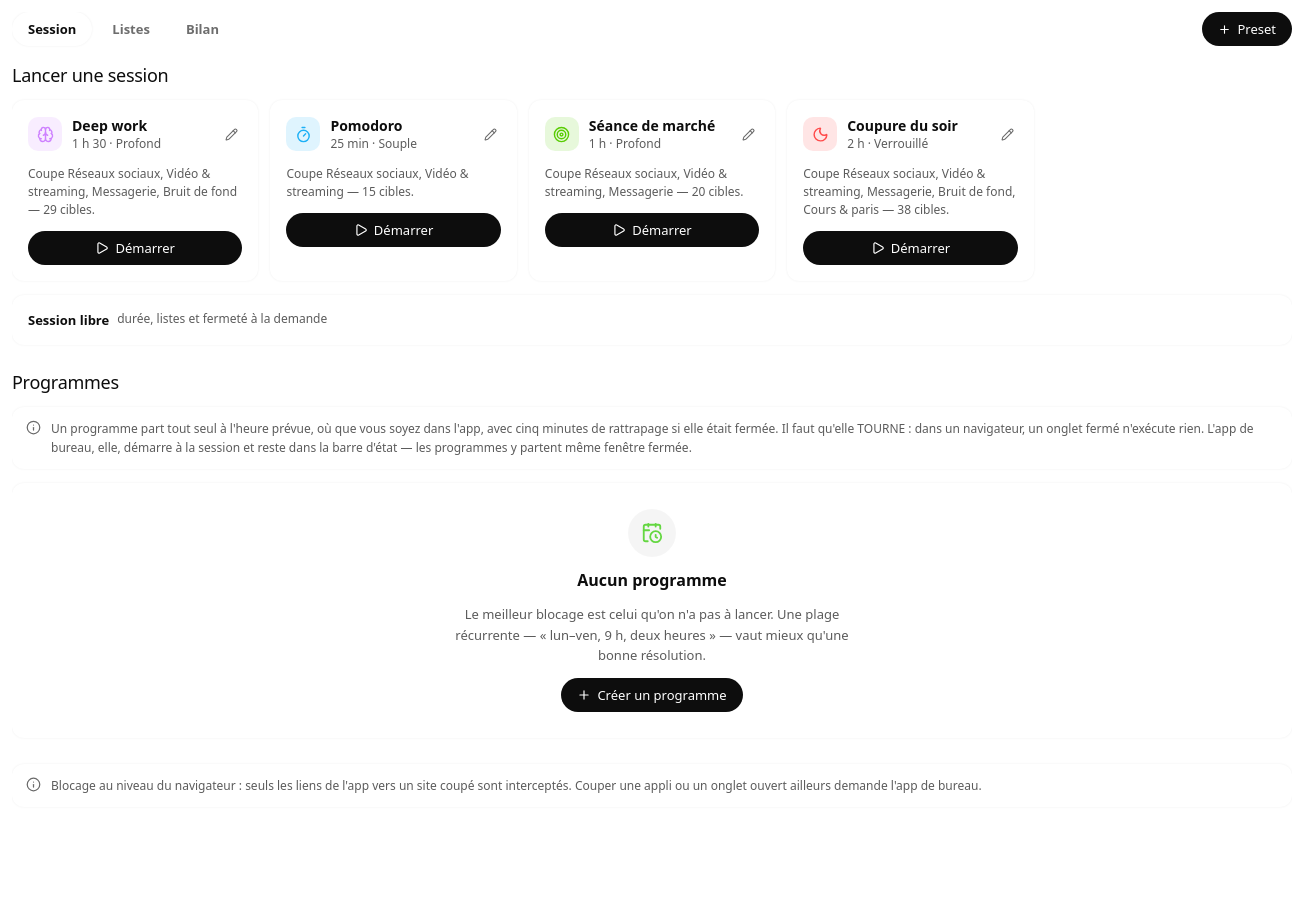
Test case: Page Focus › n'a plus ni onglet Réglages ni écran de sortie d'app
This screenshot has width=1304, height=912.
Click the button "Bilan". click: (202, 29)
box: [170,12,235,46]
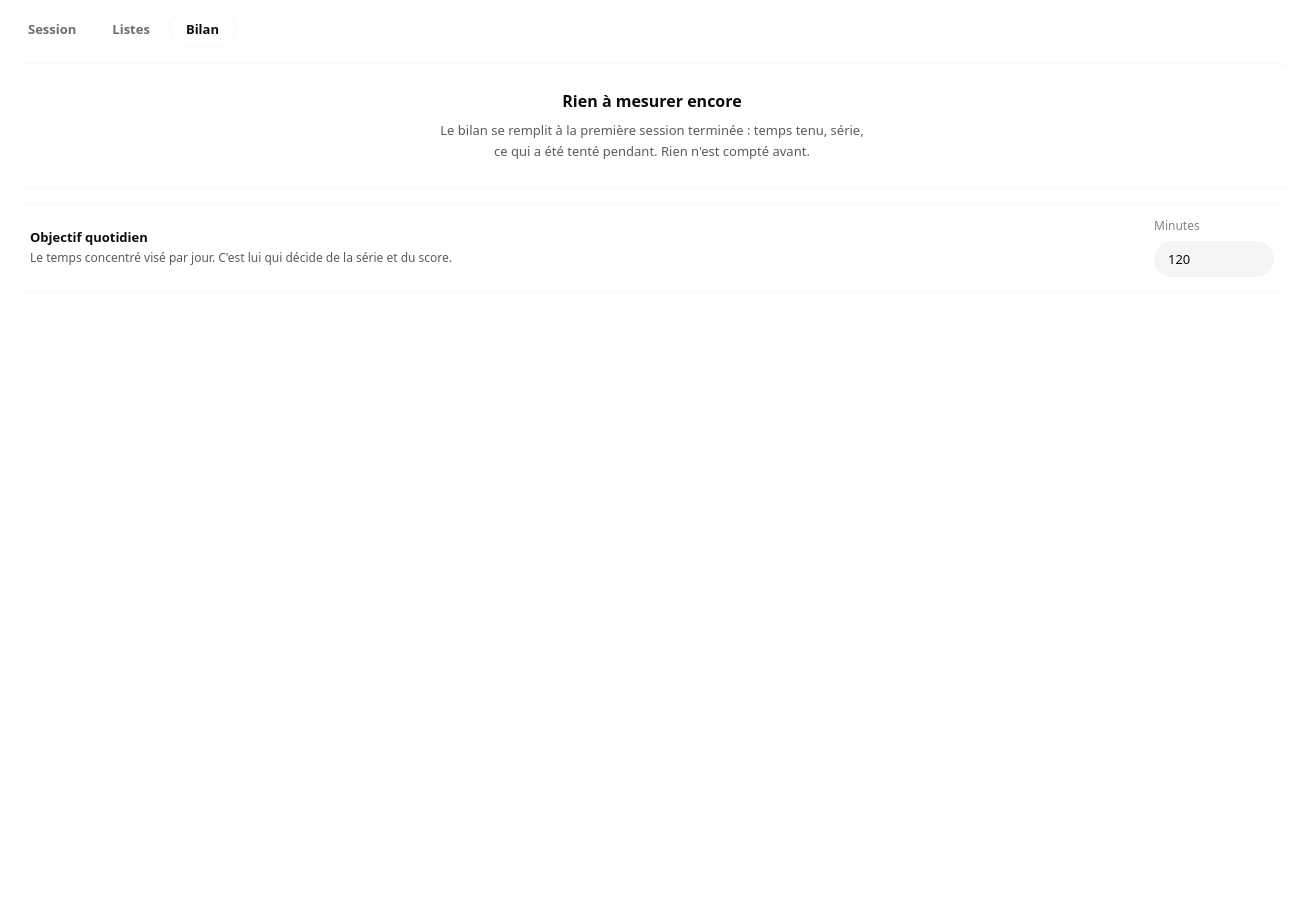
Expected: the text "Objectif quotidien" is shown, [30,228,148,246]
